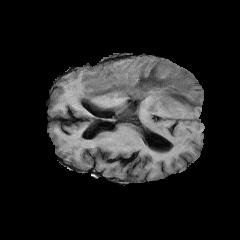glioma: (77, 60, 203, 131)
